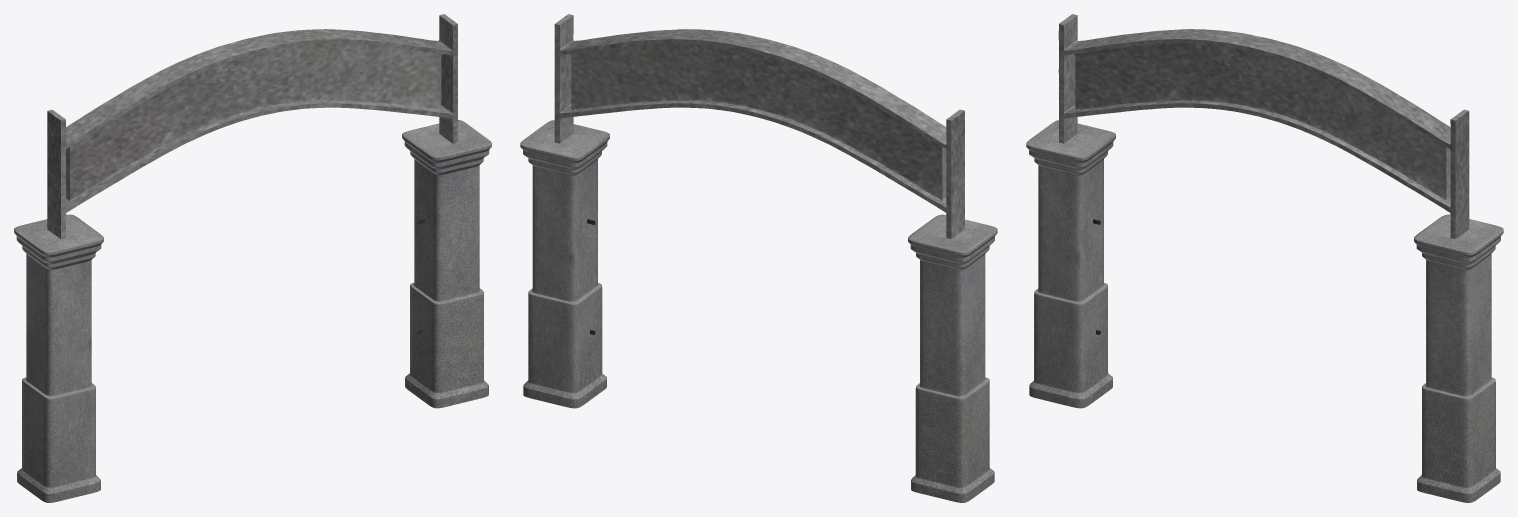
Rendered from Arco.obj.
The picture shows the model from 3 angles, left to right: view 1: azimuth 30°, elevation 25°; view 2: azimuth 150°, elevation 25°; view 3: azimuth 330°, elevation 25°; orthographic projection.
Parts seen in each view (by area): view 1: Arco005, Arco004, Arco001; view 2: Arco005, Arco004, Arco001; view 3: Arco005, Arco001, Arco004.
Part boxes in pixels (x1,y1,x2,y2): Arco005: (47,14,457,239); Arco004: (14,214,103,502); Arco001: (402,120,491,408); Arco005: (554,14,964,238); Arco004: (908,214,997,502); Arco001: (520,120,609,408); Arco005: (1058,14,1469,238); Arco001: (1414,214,1503,502); Arco004: (1026,120,1115,408).
Size of the model in its own units: 20.6 by 17.28 by 2.81.
